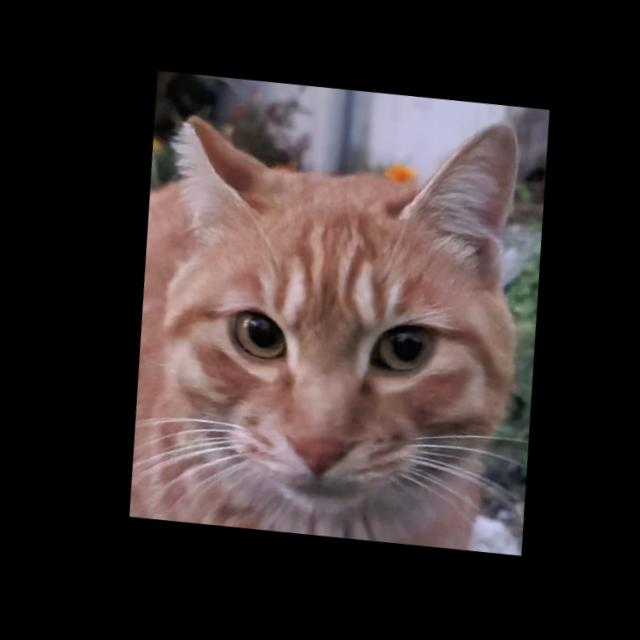animals: (128, 79, 559, 540)
